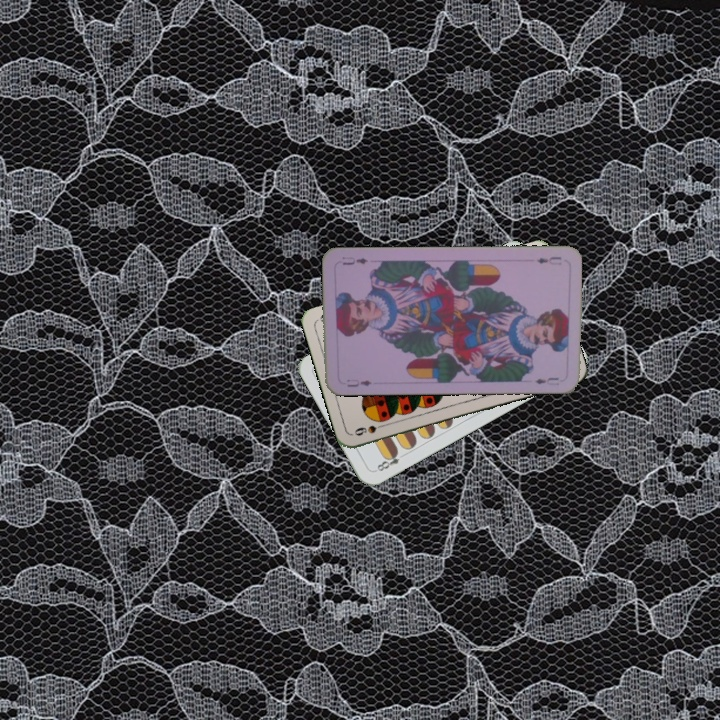E8: (371, 447, 408, 474)
EU: (533, 252, 564, 268), (343, 376, 374, 389)
S9: (350, 419, 390, 438)
